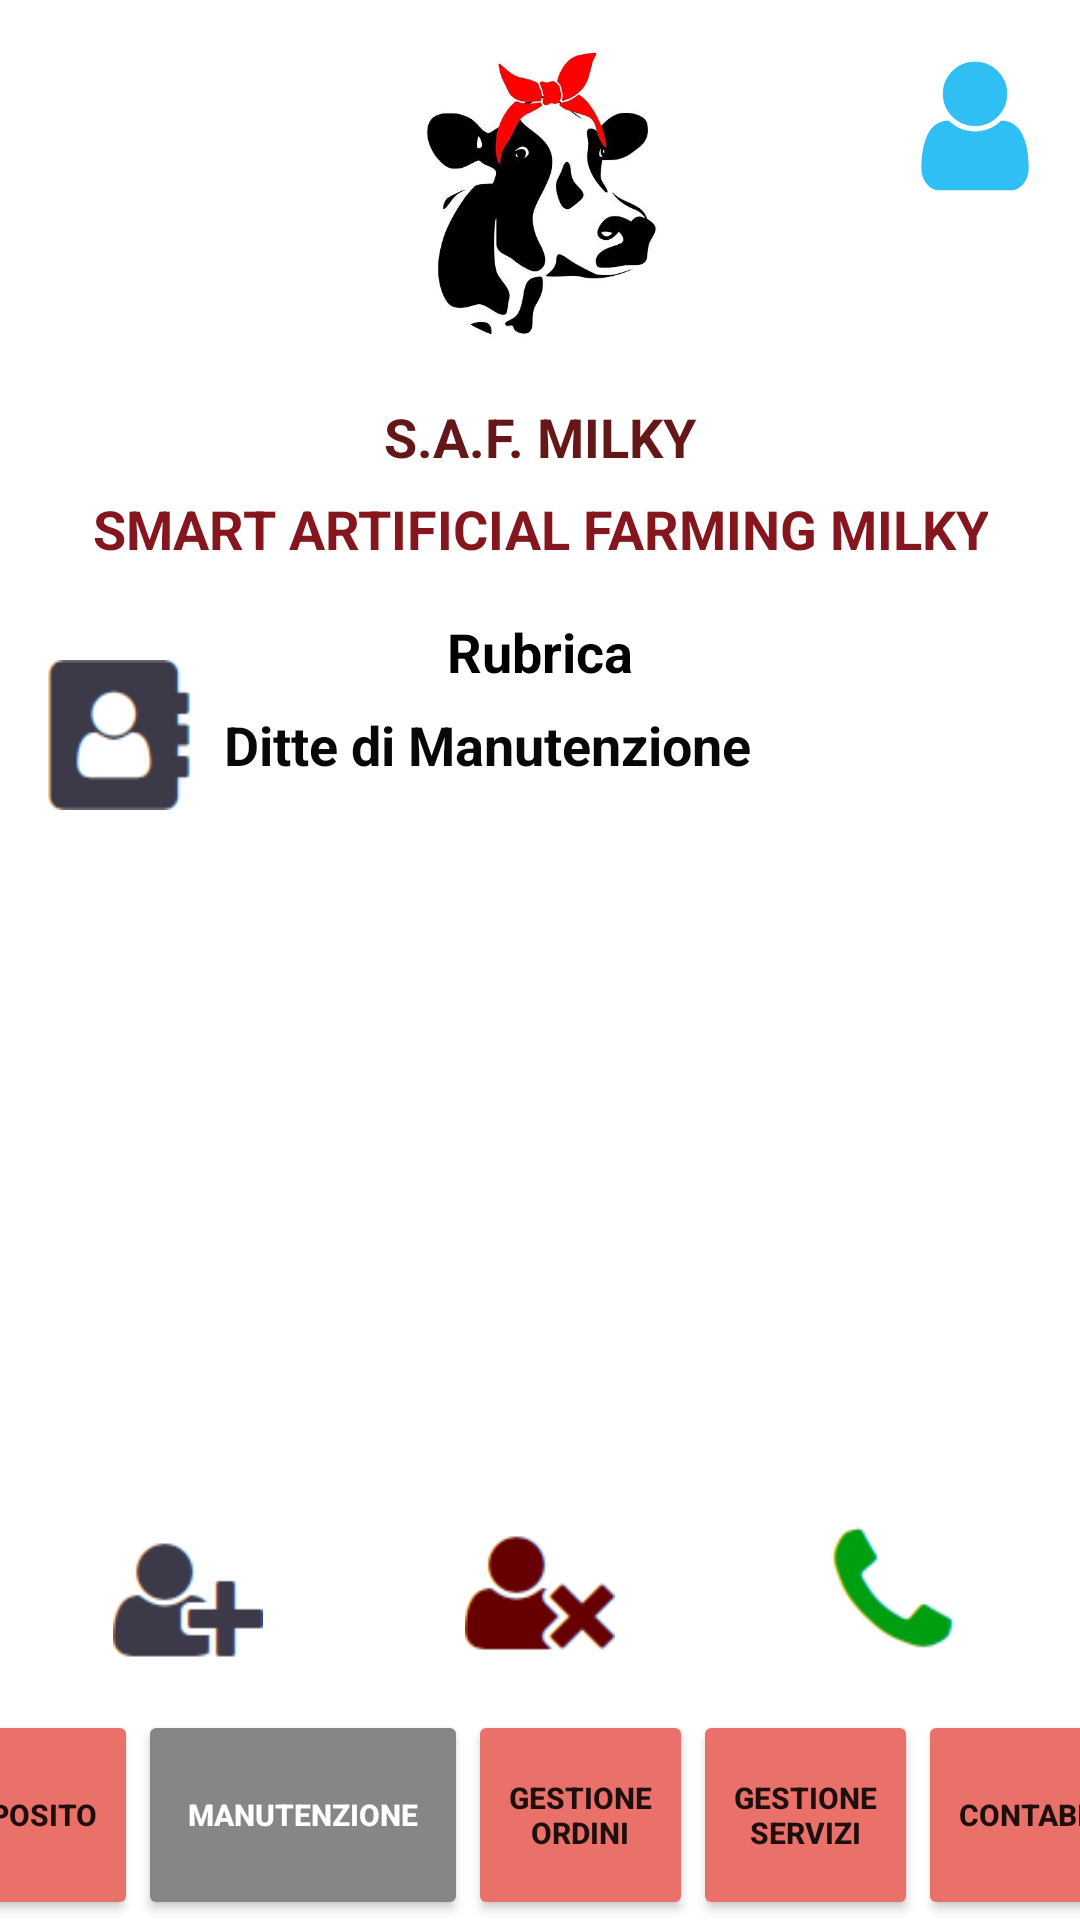

Named icons in this screenshot (1080×1920) and their centers, (x=x, y=y):
aggiungi: (x=188, y=1600)
rimuovi: (x=540, y=1593)
rubrica: (x=119, y=735)
telefono: (x=893, y=1588)
user: (x=975, y=126)
